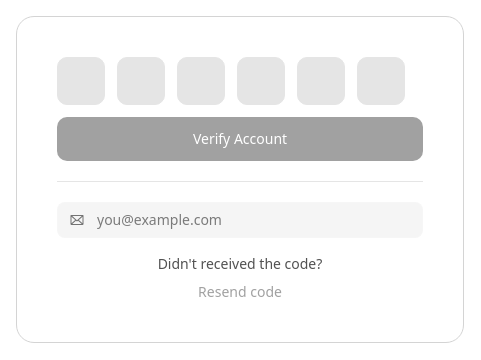
Test: VerifyAccountForm › should enable resend button when valid email is provided
Type "test@example.com" into the field with placeholder "you@example.com" at (240, 220), box [57,202,423,238]
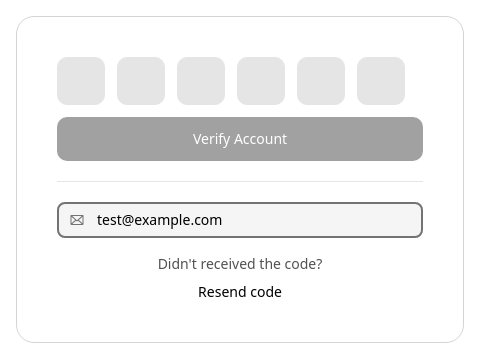
Expected: the button "Resend code" is enabled, [57,282,423,302]
